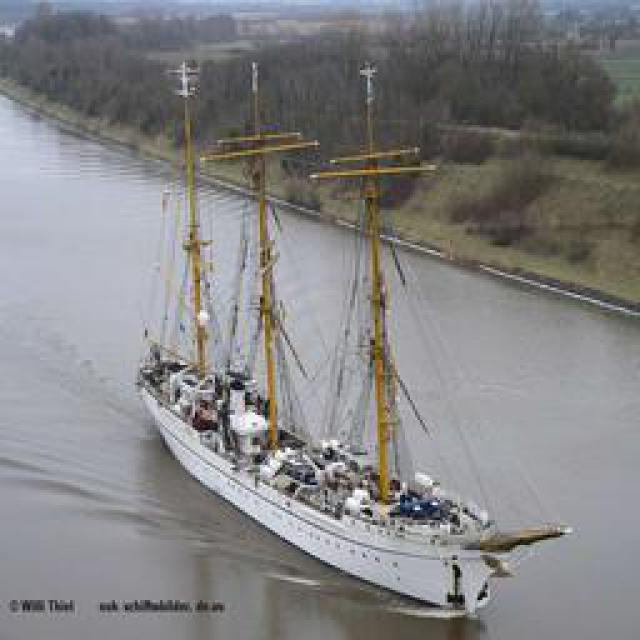Ship: (128, 124, 563, 614)
